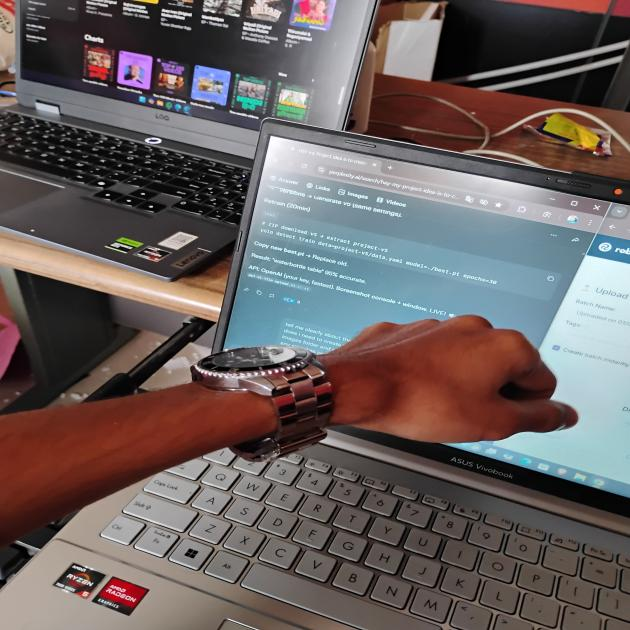laptop: (258, 114, 629, 630)
wristwatch: (185, 334, 332, 462)
